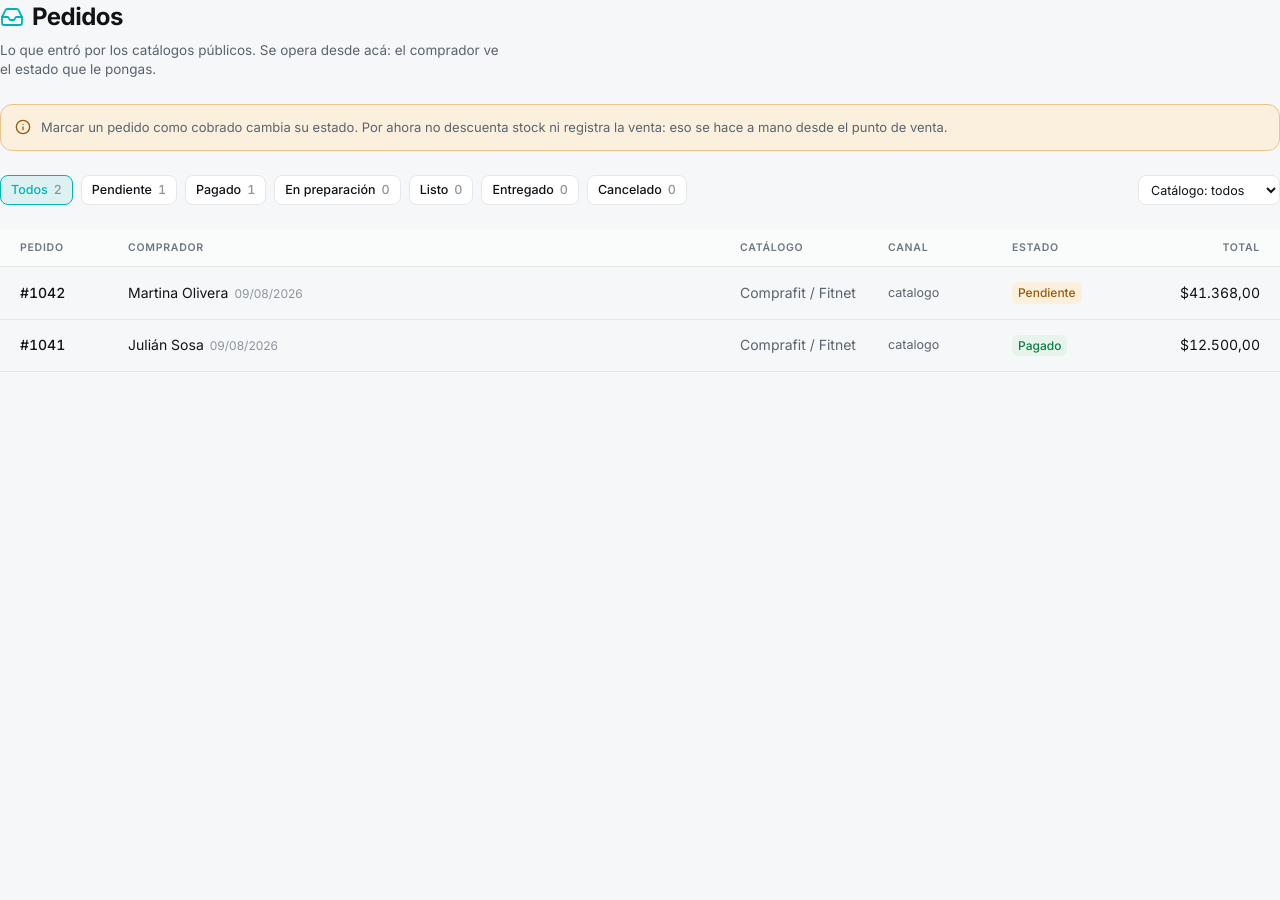
it: el panel lateral › la confirmación de «Marcar cobrado» dice que el stock no baja
Click the button that starts with "Martina Olivera" at point(43, 292), box x1=0 y1=267 x2=1279 y2=320
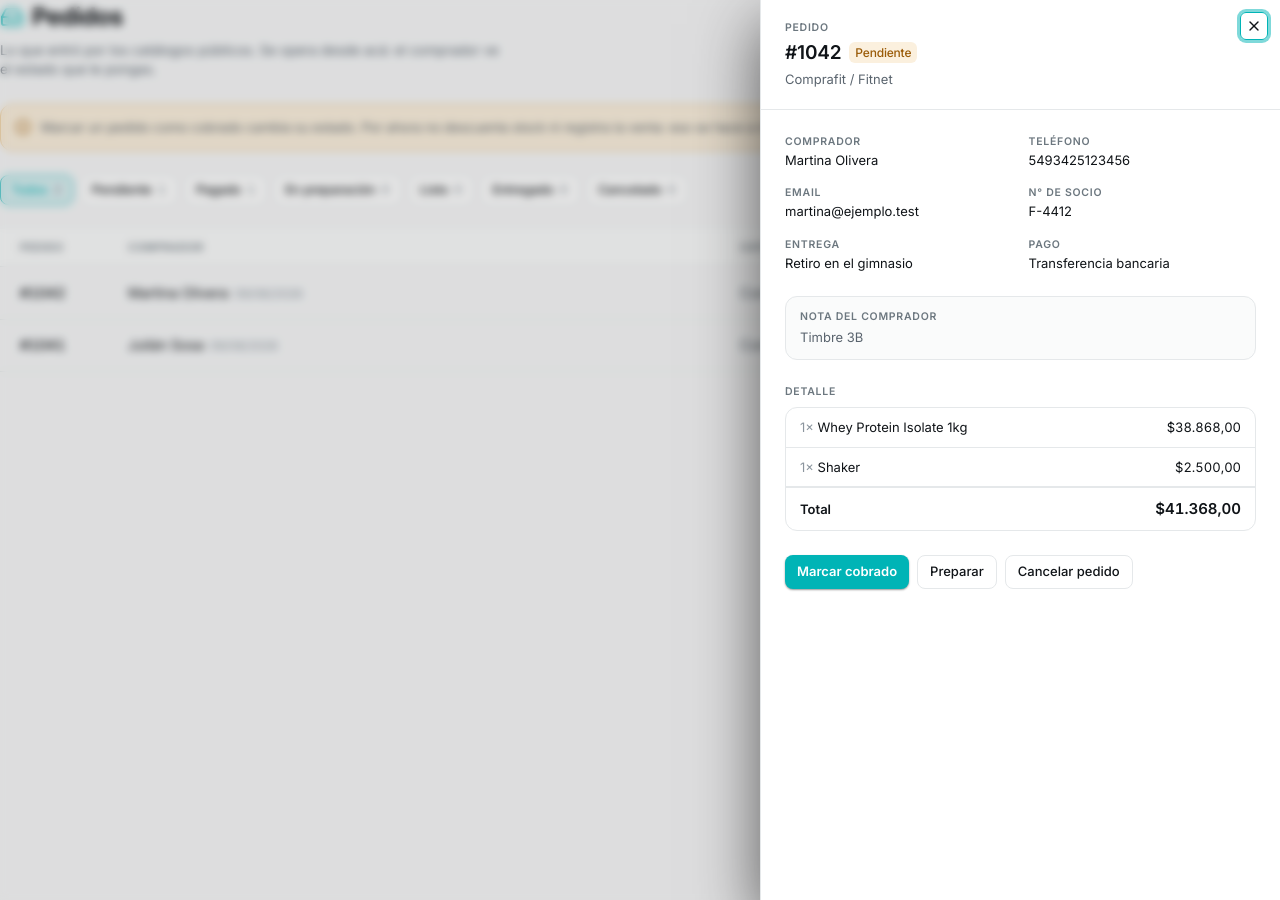
Click the button "Marcar cobrado" at point(847, 572), box x1=785 y1=554 x2=909 y2=588
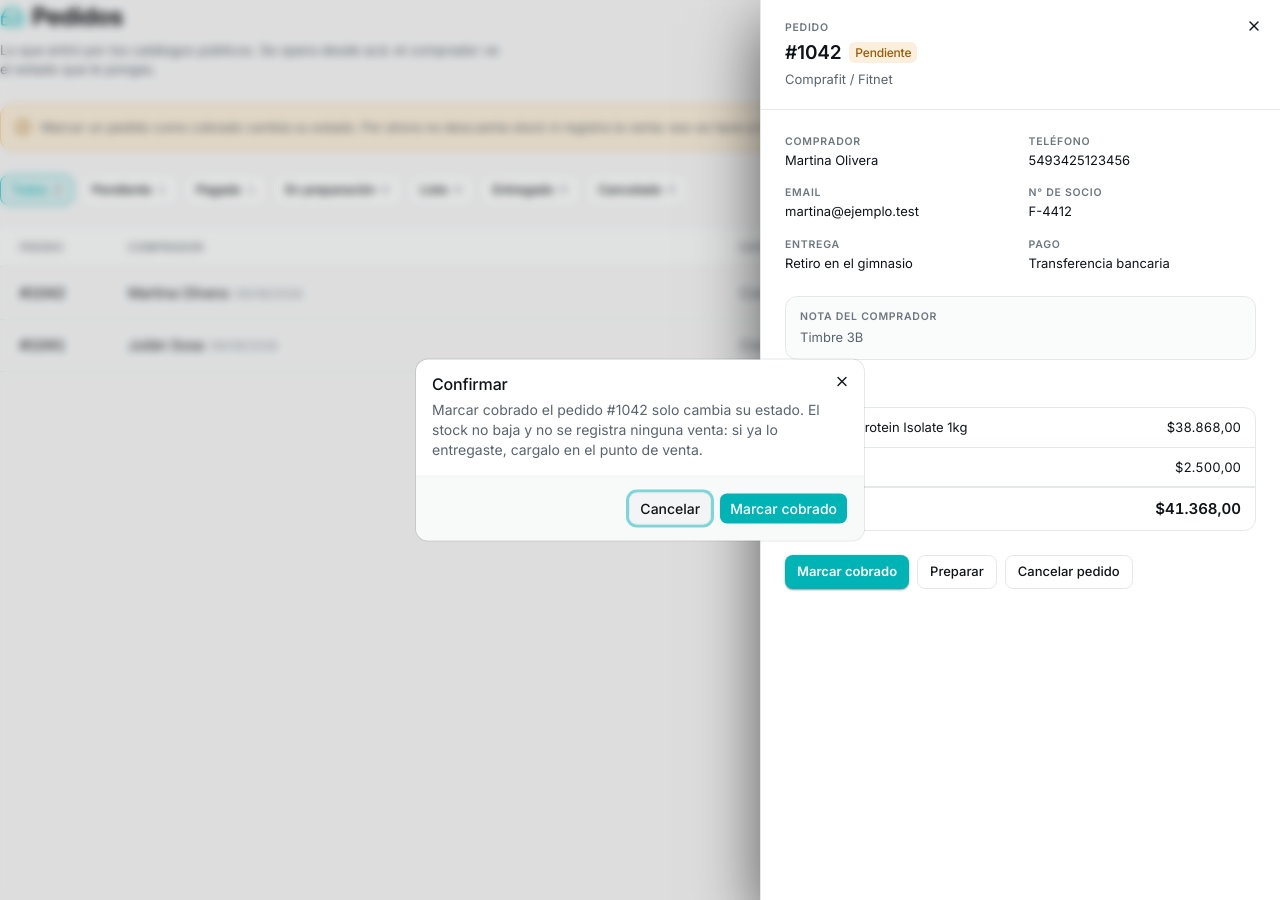
Expected: the text "solo cambia su estado" is shown, x1=432 y1=400 x2=820 y2=458
Expected: the text "El stock no baja y no se registra ninguna venta" is shown, x1=432 y1=400 x2=820 y2=458
Expected: the text "cargalo en el punto de venta" is shown, x1=432 y1=400 x2=820 y2=458
